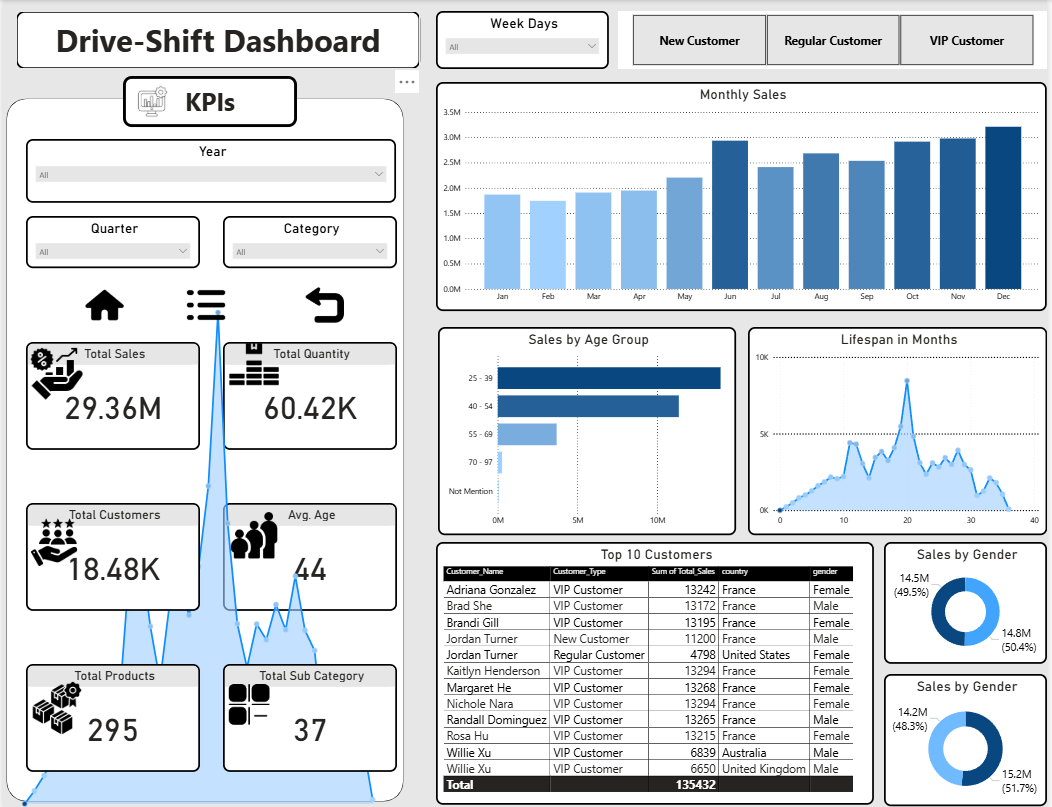

The page's visual inventory and layout, read from the dashboard file:
{"tool":"powerbi","page":{"name":"Customer Dashboard","canvas":[1800,1400],"ordinal":0},"visuals":[{"type":"textbox","box":[22.4,19,696.6,100],"z":0},{"type":"shape","box":[0,163.8,696.6,1224.1],"z":1000},{"type":"textbox","box":[206.9,131,300,87.9],"z":2000},{"type":"card","title":"Total Sales","fields":{"Values":["Sum(Sales.sales_amount)"]},"box":[39.7,589.7,300,186.2],"z":3000},{"type":"card","title":"Total Quantity","fields":{"Values":["Sum(Sales.quantity)"]},"box":[379.3,589.7,300,186.2],"z":4000},{"type":"card","title":"Avg. Age","fields":{"Values":["Avg(Customers.Age)"]},"box":[379.3,867.2,300,186.2],"z":6000},{"type":"slicer","title":"Year","fields":{"Values":["DateMaster.Year"]},"box":[39.7,239.7,637.9,110.3],"z":9000},{"type":"slicer","title":"Quarter","fields":{"Values":["DateMaster.Qtr"]},"box":[39.7,372.4,300,89.7],"z":10000},{"type":"slicer","title":"Category","fields":{"Values":["Products.category"]},"box":[379.3,372.4,300,89.7],"z":11000},{"type":"columnChart","title":"Monthly Sales  ","fields":{"Y":["Sum(Sales.sales_amount)"],"Category":["DateMaster.Month Name"]},"box":[746.6,141.4,1053.4,394.8],"z":12000},{"type":"clusteredBarChart","title":"Sales by Age Group","fields":{"Category":["Customers.AgeGroup"],"Y":["Sum(Customers.Total_Sales)"]},"box":[750,563.8,513.8,358.6],"z":13000},{"type":"tableEx","title":"Top 10 Customers","fields":{"Values":["Customers.Customer_Name","Customers.Customer_Type","Sum(Customers.Total_Sales)","Customers.country","Customers.gender"]},"box":[746.6,934.5,755.2,453.4],"z":14000},{"type":"lineChart","title":"Lifespan  in Months","fields":{"Category":["Customers.Lifespan_in_Months"],"Y":["Sum(Customers.Lifespan_in_Months)"]},"box":[1284.5,563.8,515.5,358.6],"z":15000},{"type":"slicer","title":"Week Days","fields":{"Values":["DateMaster.Week Day"]},"box":[746.6,19,298.3,100],"z":16000},{"type":"slicer","fields":{"Values":["Customers.Customer_Type"]},"box":[1060.3,19,739.7,100],"z":17000},{"type":"donutChart","title":"Sales by Gender","fields":{"Category":["Customers.gender"],"Y":["Sum(Customers.Total_Sales)"]},"box":[1519,934.5,281,210.3],"z":18000},{"type":"donutChart","title":"Sales by Gender","fields":{"Category":["Customers.marital_status"],"Y":["Sum(Customers.Total_Sales)"]},"box":[1519,1162.1,281,227.6],"z":19000},{"type":"lineChart","title":"Lifespan  in Months","fields":{"Category":["Customers.Lifespan_in_Months"],"Y":["Sum(Customers.Lifespan_in_Months)"]},"box":[22.4,470.7,696.6,925.9],"z":19500},{"type":"card","title":"Total Sub Category","fields":{"Values":["Count(Products.subcategory)"]},"box":[379.3,1144.8,300,186.2],"z":19750},{"type":"image","box":[225.9,139.7,63.8,70.7],"z":20000},{"type":"card","title":"Total Products ","fields":{"Values":["Count(Products.product_id)"]},"box":[39.7,1144.8,300,186.2],"z":20500},{"type":"image","box":[39.7,589.7,106.9,110.3],"z":21000},{"type":"card","title":"Total Customers","fields":{"Values":["Count(Customers.customer_id)"]},"box":[39.7,867.2,300,186.2],"z":21500},{"type":"image","box":[379.3,572.4,106.9,110.3],"z":22000},{"type":"image","box":[39.7,884.5,96.6,100],"z":23000},{"type":"image","box":[387.9,875.9,89.7,93.1],"z":24000},{"type":"image","box":[379.3,1165.5,89.7,98.3],"z":26000},{"type":"image","box":[136.2,487.9,77.6,75.9],"z":27000},{"type":"image","box":[39.7,1165.5,106.9,110.3],"z":27500},{"type":"image","box":[312.1,487.9,75.9,75.9],"z":28000},{"type":"image","box":[506.9,487.9,96.6,75.9],"z":30000}]}

Visuals, with their boxes in screenshot pixels (x1, y1, x2, y2), scaled from the page's 1800x1400 canvas onto the 1052x807 screenshot:
textbox: x1=13 y1=11 x2=420 y2=69
shape: x1=0 y1=94 x2=407 y2=800
textbox: x1=121 y1=76 x2=296 y2=126
"Total Sales" card: x1=23 y1=340 x2=199 y2=447
"Total Quantity" card: x1=222 y1=340 x2=397 y2=447
"Avg. Age" card: x1=222 y1=500 x2=397 y2=607
"Year" slicer: x1=23 y1=138 x2=396 y2=202
"Quarter" slicer: x1=23 y1=215 x2=199 y2=266
"Category" slicer: x1=222 y1=215 x2=397 y2=266
"Monthly Sales  " columnChart: x1=436 y1=82 x2=1051 y2=309
"Sales by Age Group" clusteredBarChart: x1=438 y1=325 x2=739 y2=532
"Top 10 Customers" tableEx: x1=436 y1=539 x2=878 y2=800
"Lifespan  in Months" lineChart: x1=751 y1=325 x2=1051 y2=532
"Week Days" slicer: x1=436 y1=11 x2=611 y2=69
slicer - Customers.Customer_Type: x1=620 y1=11 x2=1051 y2=69
"Sales by Gender" donutChart: x1=888 y1=539 x2=1051 y2=660
"Sales by Gender" donutChart: x1=888 y1=670 x2=1051 y2=801
"Lifespan  in Months" lineChart: x1=13 y1=271 x2=420 y2=805
"Total Sub Category" card: x1=222 y1=660 x2=397 y2=767
image: x1=132 y1=81 x2=169 y2=121
"Total Products " card: x1=23 y1=660 x2=199 y2=767
image: x1=23 y1=340 x2=86 y2=404
"Total Customers" card: x1=23 y1=500 x2=199 y2=607
image: x1=222 y1=330 x2=284 y2=394
image: x1=23 y1=510 x2=80 y2=567
image: x1=227 y1=505 x2=279 y2=559
image: x1=222 y1=672 x2=274 y2=728
image: x1=80 y1=281 x2=125 y2=325
image: x1=23 y1=672 x2=86 y2=735
image: x1=182 y1=281 x2=227 y2=325
image: x1=296 y1=281 x2=353 y2=325
